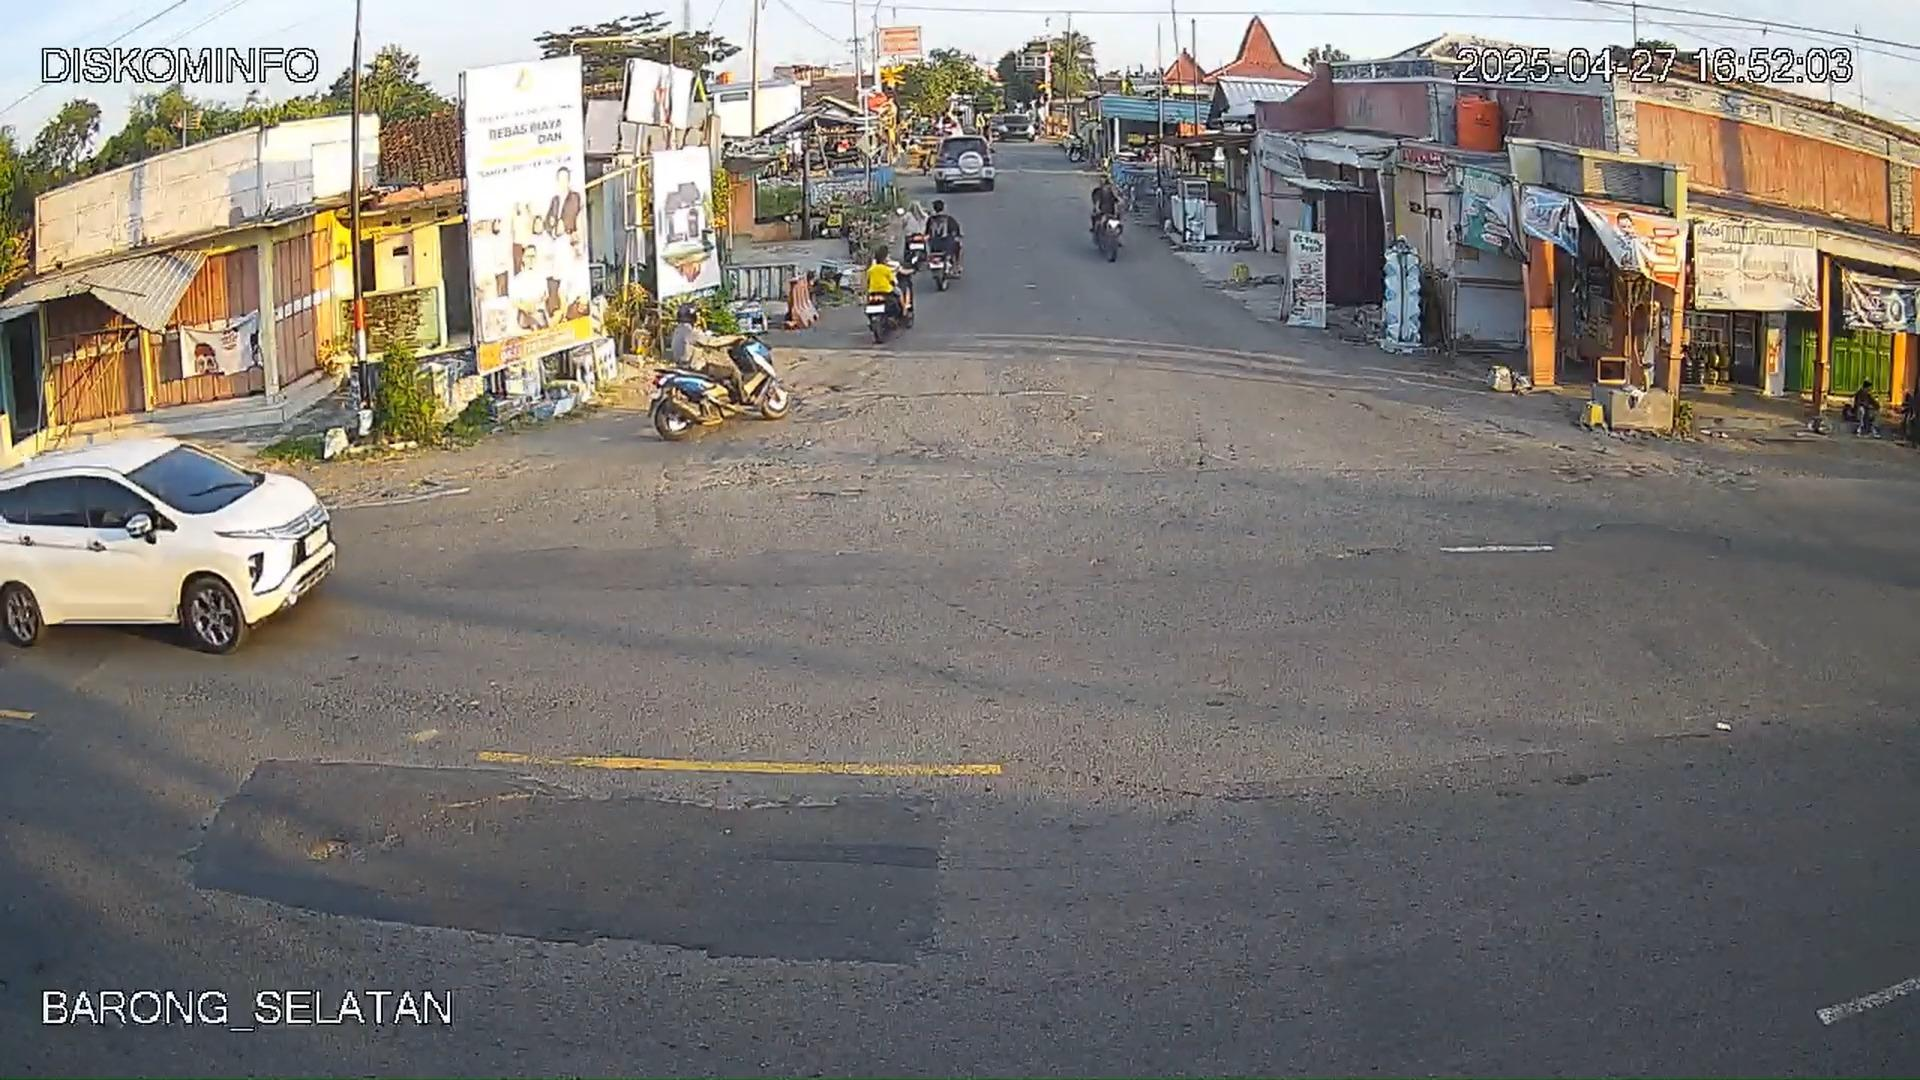Motor: (647, 332, 791, 438), (864, 272, 916, 345)
mobil: (3, 435, 340, 653)
